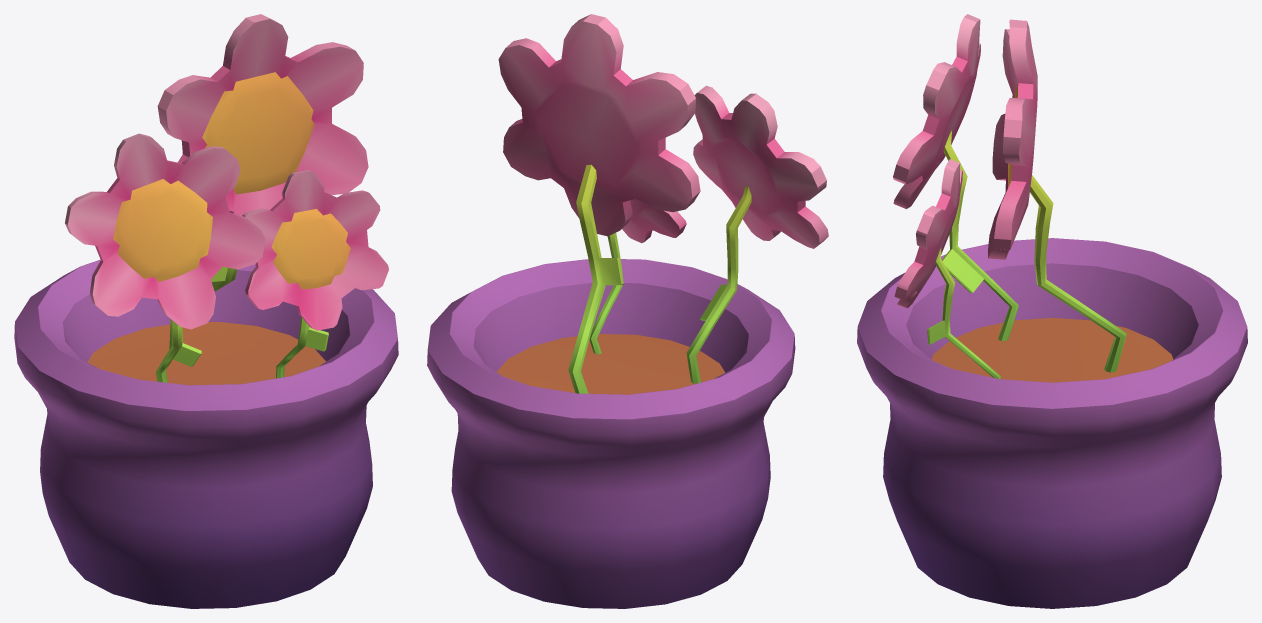
Rendered from CatCafeFlowers.fbx.
The picture shows the model from 3 angles, left to right: view 1: azimuth 30°, elevation 25°; view 2: azimuth 150°, elevation 25°; view 3: azimuth 270°, elevation 25°; orthographic projection. The views are drawn at different scales.
Visible parts, largest first — view 1: polySurface1, polySurface3, polySurface7, polySurface5, polySurface6, polySurface4; view 2: polySurface1, polySurface3, polySurface7, polySurface2, polySurface6, polySurface5, polySurface4; view 3: polySurface1, polySurface3, polySurface7, polySurface5, polySurface2, polySurface6, polySurface4.
Boxes of the visible parts, bbox=[...] form: polySurface1: bbox=[14, 259, 398, 608]; polySurface3: bbox=[157, 14, 368, 215]; polySurface7: bbox=[65, 133, 265, 329]; polySurface5: bbox=[242, 170, 388, 330]; polySurface6: bbox=[156, 319, 201, 382]; polySurface4: bbox=[276, 317, 328, 378]; polySurface1: bbox=[427, 259, 795, 608]; polySurface3: bbox=[498, 14, 700, 236]; polySurface7: bbox=[693, 85, 828, 248]; polySurface2: bbox=[568, 164, 623, 393]; polySurface6: bbox=[686, 186, 751, 383]; polySurface5: bbox=[622, 199, 686, 243]; polySurface4: bbox=[589, 232, 623, 354]; polySurface1: bbox=[857, 238, 1247, 608]; polySurface3: bbox=[988, 19, 1037, 259]; polySurface7: bbox=[893, 14, 980, 208]; polySurface5: bbox=[894, 159, 962, 308]; polySurface2: bbox=[1030, 175, 1126, 372]; polySurface6: bbox=[942, 130, 1018, 340]; polySurface4: bbox=[927, 248, 1000, 378].
Size of the model in its own units: 311 by 457 by 298.
